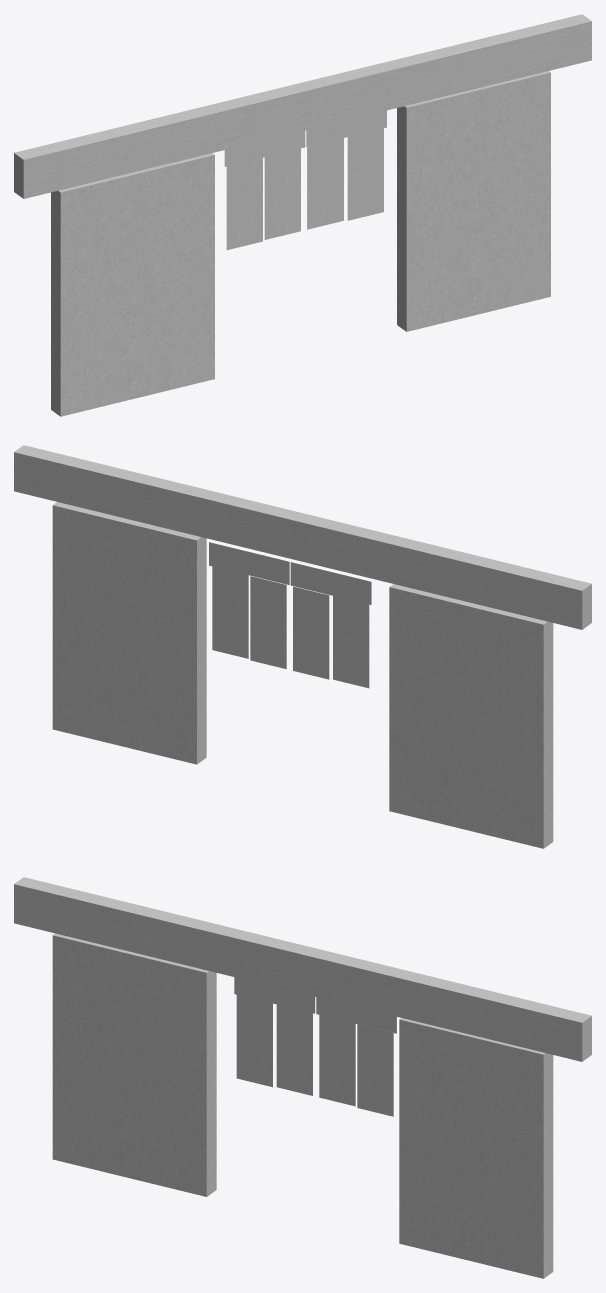
File: doujou_wall_back.obj
The picture shows the model from 3 angles, top to bottom: view 1: azimuth 30°, elevation 25°; view 2: azimuth 150°, elevation 25°; view 3: azimuth 330°, elevation 25°; orthographic projection.
Visible parts, largest first — view 1: 立方体.009; view 2: 立方体.009; view 3: 立方体.009.
Boxes of the visible parts, x1,y1,x2,y2 form: 立方体.009: (14,14,591,416); 立方体.009: (14,445,591,848); 立方体.009: (14,877,591,1278).
Bounding box in the file's own units: 557 × 250 × 18.6.
1 material, 1 textured.
